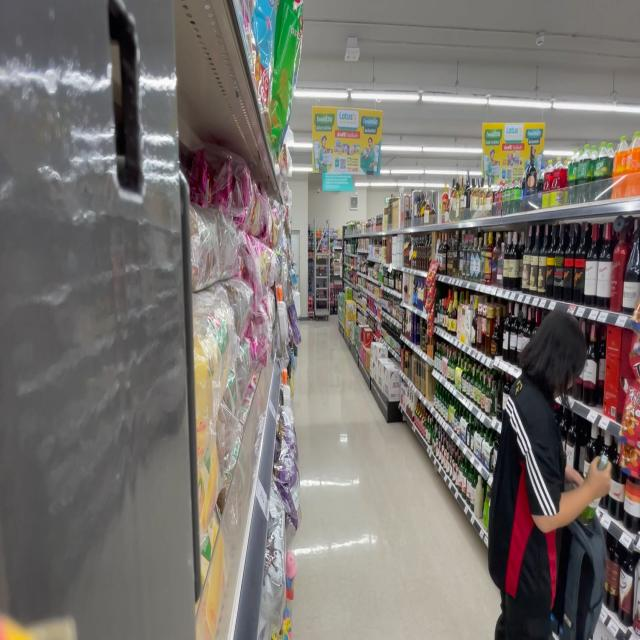shoplifting: (488, 309, 614, 640)
